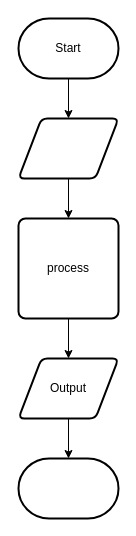
Some shapes in this 136 by 536 pixel diagram are drawn without their labels. Here are the shapes that lost their labels. From the top down, the box of each, then its label:
(17, 117, 119, 179): User inputs lengths
(17, 457, 119, 519): Stop
